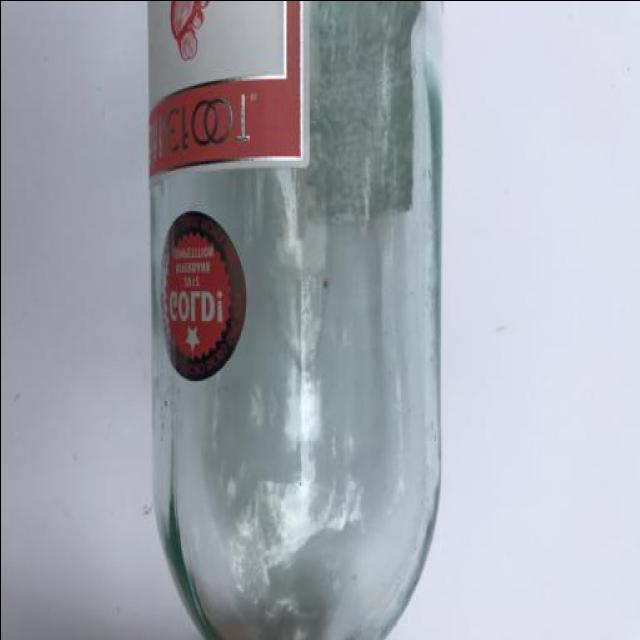glass: (147, 0, 446, 640)
